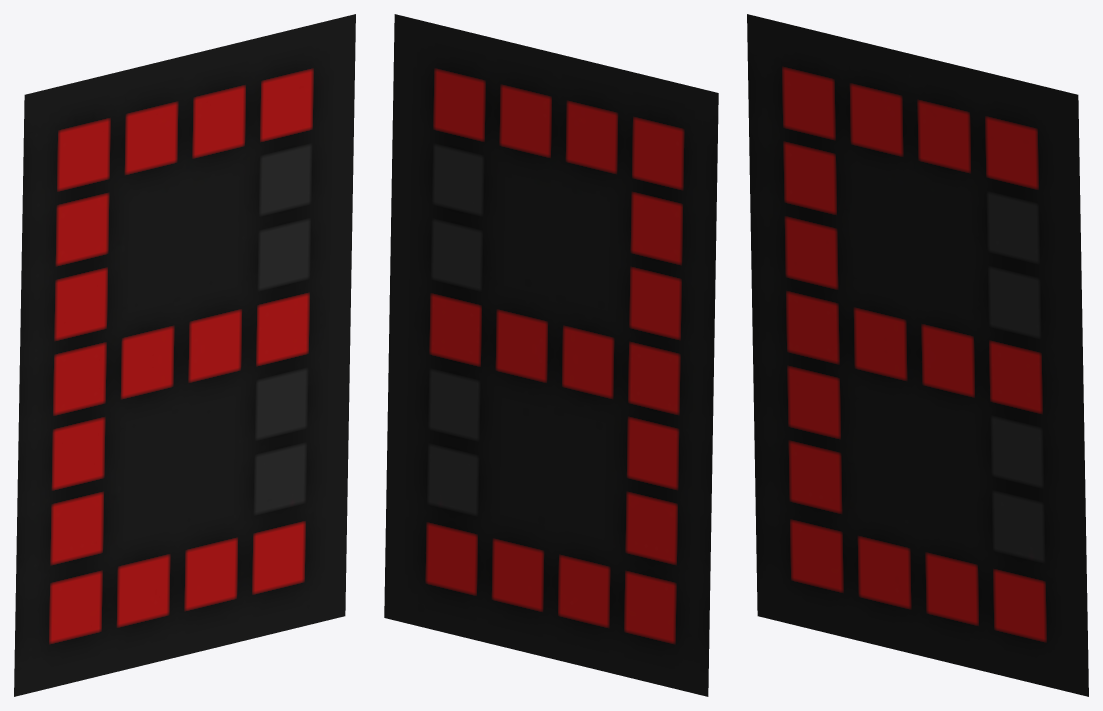
The picture shows the model from 3 angles, left to right: view 1: azimuth 30°, elevation 25°; view 2: azimuth 150°, elevation 25°; view 3: azimuth 330°, elevation 25°; orthographic projection. The views are drawn at different scales.
Parts seen in each view (by area): view 1: scorebord.001; view 2: scorebord.001; view 3: scorebord.001.
Boxes of the visible parts, x1=… form: scorebord.001: x1=14, y1=14, x2=355, y2=696; scorebord.001: x1=384, y1=14, x2=718, y2=696; scorebord.001: x1=747, y1=14, x2=1088, y2=696.
Size of the model in its own units: 0.00402 by 0.00706 by 0.000222.
Materials: 1 (1 with a texture image).
